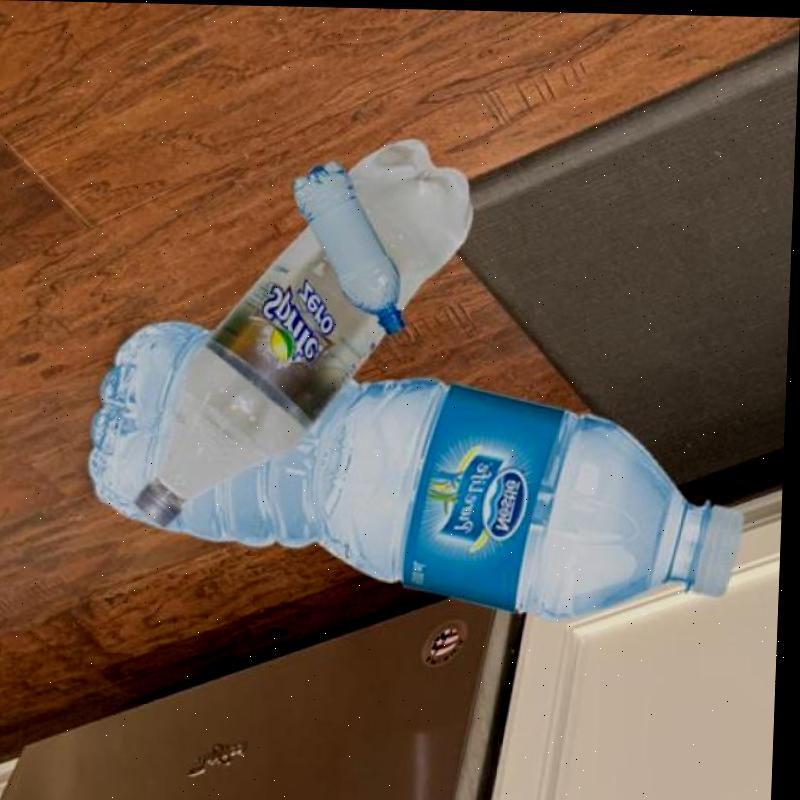botella: (87, 318, 754, 621), (137, 128, 480, 533), (288, 157, 412, 334)
